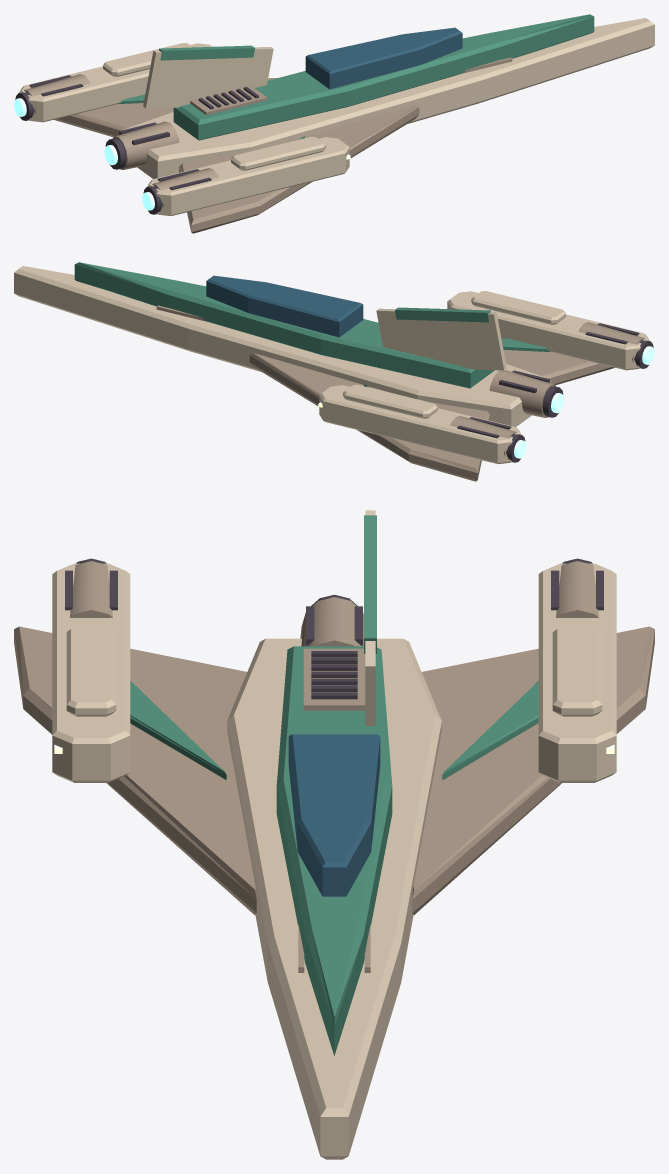
Rendered from clipper.glb.
The picture shows the model from 3 angles, top to bottom: view 1: azimuth 30°, elevation 25°; view 2: azimuth 150°, elevation 25°; view 3: azimuth 270°, elevation 25°; orthographic projection. The views are drawn at different scales.
Visible parts, largest first — view 1: clipper-hull, clipper-accent, clipper-armor, clipper-glass, clipper-frame, clipper-engine; view 2: clipper-hull, clipper-accent, clipper-armor, clipper-glass, clipper-frame, clipper-engine; view 3: clipper-hull, clipper-armor, clipper-accent, clipper-glass, clipper-frame.
Part boxes in pixels (x1,y1,x2,y2): clipper-hull: [19, 18, 654, 215]; clipper-accent: [117, 14, 594, 140]; clipper-armor: [24, 57, 512, 233]; clipper-glass: [305, 27, 462, 89]; clipper-frame: [15, 75, 258, 214]; clipper-engine: [14, 98, 154, 210]; clipper-hull: [14, 266, 649, 463]; clipper-accent: [74, 262, 551, 388]; clipper-armor: [156, 305, 644, 481]; clipper-glass: [206, 275, 363, 337]; clipper-frame: [457, 323, 653, 462]; clipper-engine: [514, 346, 654, 458]; clipper-hull: [52, 510, 616, 1159]; clipper-armor: [14, 561, 654, 972]; clipper-accent: [130, 515, 538, 1056]; clipper-glass: [288, 734, 380, 896]; clipper-frame: [65, 558, 603, 699].
Bounding box in the file's own units: 8.3 × 1.49 × 4.27.
